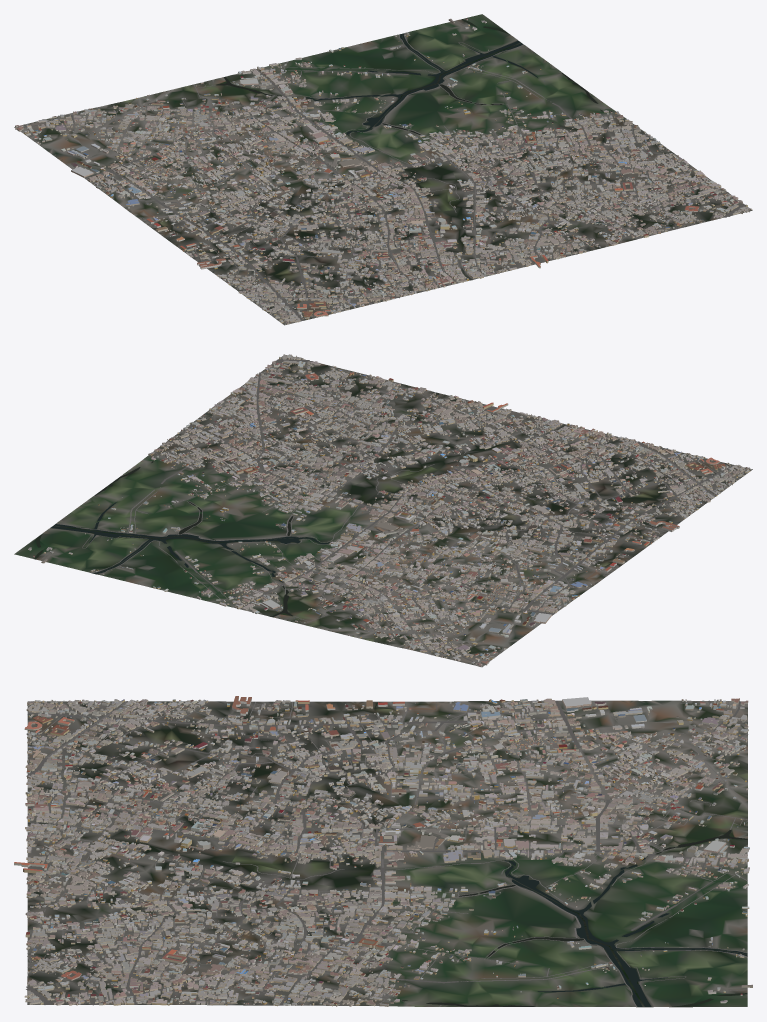
3 renders of one model, top to bottom at view 1: azimuth 30°, elevation 25°; view 2: azimuth 150°, elevation 25°; view 3: azimuth 270°, elevation 25°, orthographic. The views are drawn at different scales.
Visible parts, largest first — view 1: ground, buildings, roads, water; view 2: ground, buildings, roads, water; view 3: ground, buildings, roads, water.
Part boxes in pixels (x1,y1,x2,y2): ground: [14, 14, 752, 325]; buildings: [15, 18, 752, 324]; roads: [21, 20, 745, 320]; water: [216, 19, 602, 135]; ground: [14, 355, 752, 667]; buildings: [28, 354, 751, 666]; roads: [42, 359, 739, 665]; water: [34, 461, 330, 617]; ground: [27, 700, 747, 1007]; buildings: [14, 696, 752, 1006]; roads: [26, 700, 748, 1006]; water: [402, 830, 747, 1006].
Size of the model in its own units: 2837 by 28.95 by 2874.
